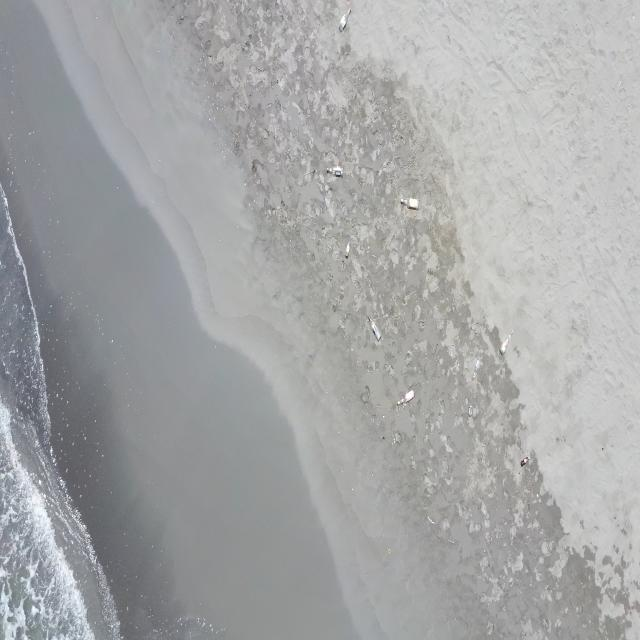glass: (499, 330, 514, 355), (338, 6, 352, 32), (368, 316, 382, 341), (398, 388, 416, 406), (400, 197, 420, 211), (326, 165, 344, 178), (473, 358, 481, 379), (520, 455, 530, 467), (345, 240, 351, 259), (468, 404, 472, 416)
